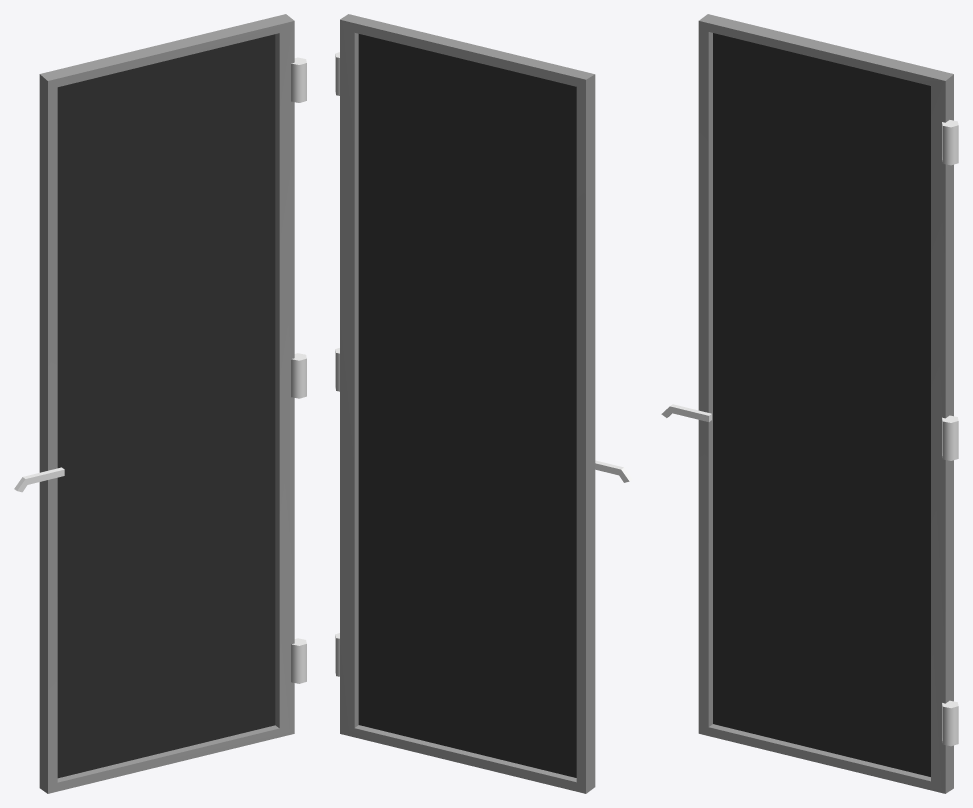
File: SM_Door_Grid_01.FBX
3 renders of one model, left to right at view 1: azimuth 30°, elevation 25°; view 2: azimuth 150°, elevation 25°; view 3: azimuth 330°, elevation 25°, orthographic.
Visible parts, largest first — view 1: SM_Door_Grid_01; view 2: SM_Door_Grid_01; view 3: SM_Door_Grid_01.
Boxes of the visible parts, bbox=[...] form: SM_Door_Grid_01: bbox=[14, 14, 306, 793]; SM_Door_Grid_01: bbox=[335, 14, 632, 793]; SM_Door_Grid_01: bbox=[661, 14, 958, 793].
Size of the model in its own units: 114 by 8.43 by 266.
